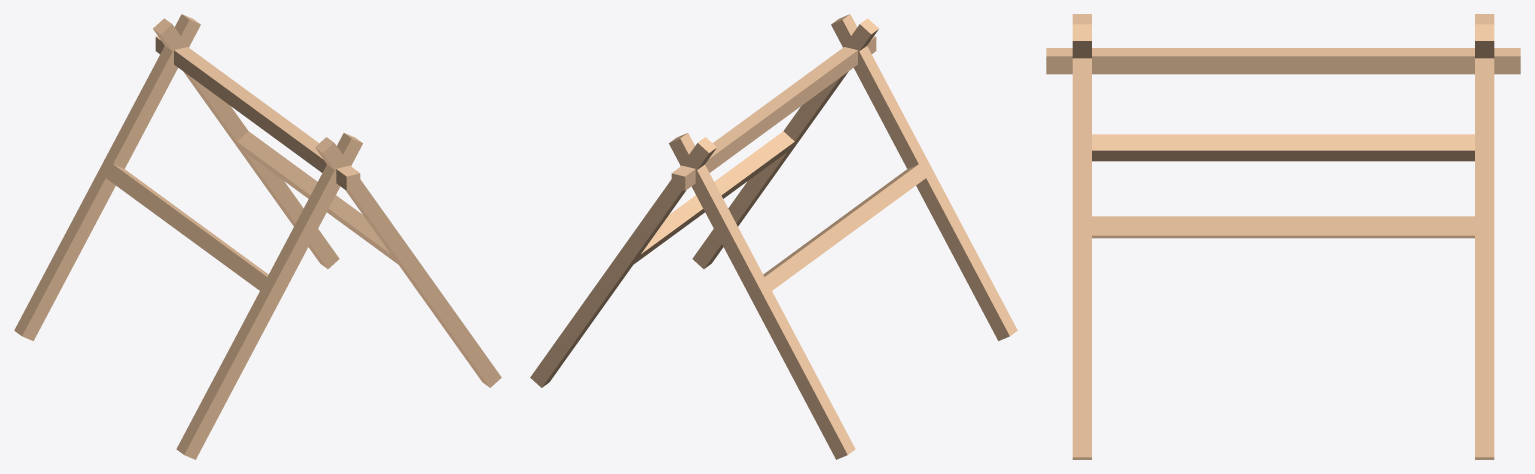
File: tent.glb
3 views of the same model, side by side, from view 1: azimuth 30°, elevation 25°; view 2: azimuth 150°, elevation 25°; view 3: azimuth 270°, elevation 25° (orthographic). The views are drawn at different scales.
Visible parts, largest first — view 1: tent; view 2: tent; view 3: tent.
Boxes of the visible parts, x1,y1,x2,y2 form: tent: (14, 14, 501, 459); tent: (530, 14, 1017, 459); tent: (1046, 14, 1520, 459).
Size of the model in its own units: 2.16 by 1.84 by 2.25.
